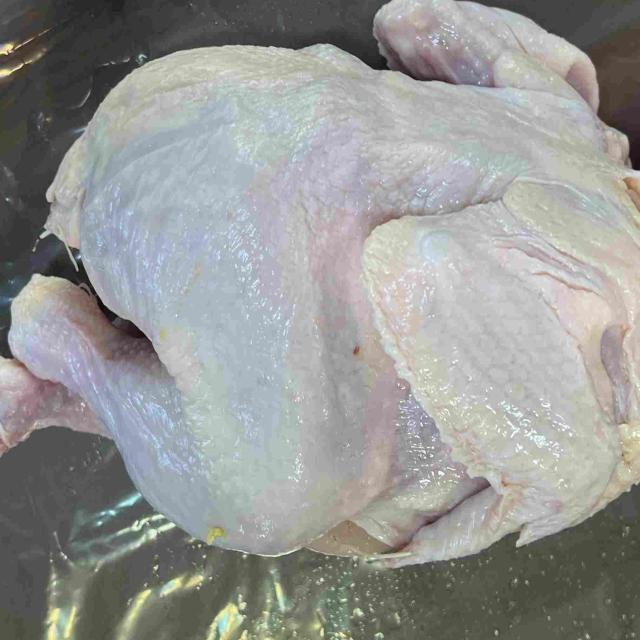back: (39, 40, 558, 275)
leg: (7, 273, 391, 550), (0, 350, 99, 444)
wing: (366, 192, 618, 571), (377, 0, 602, 99)
